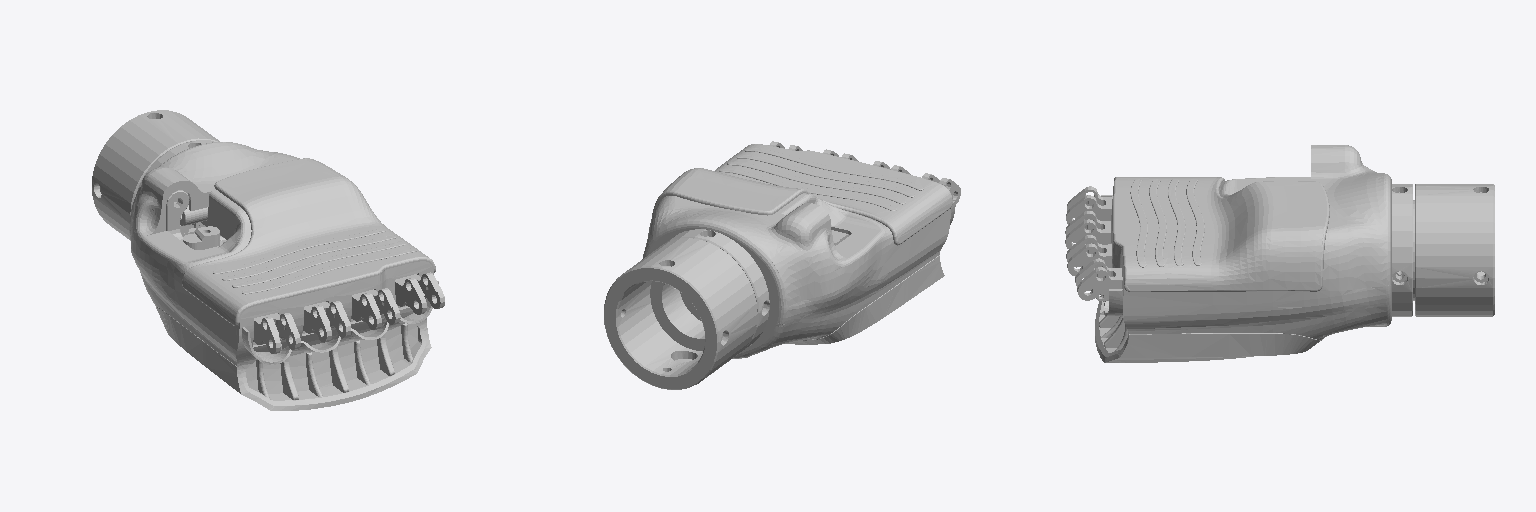
The model's file is right_base_link_visuals.obj.
3 views of the same model, side by side, from view 1: azimuth 30°, elevation 25°; view 2: azimuth 150°, elevation 25°; view 3: azimuth 270°, elevation 25° (orthographic).
Bounding box in the file's own units: 0.0893 × 0.0652 × 0.161.